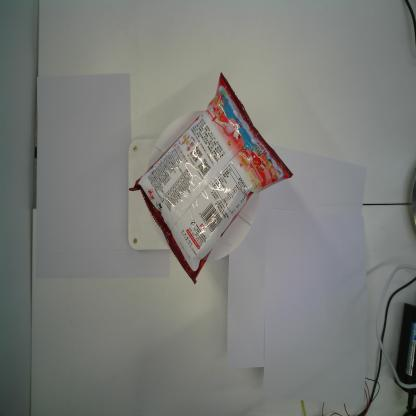Puffed Food: (128, 70, 294, 286)
